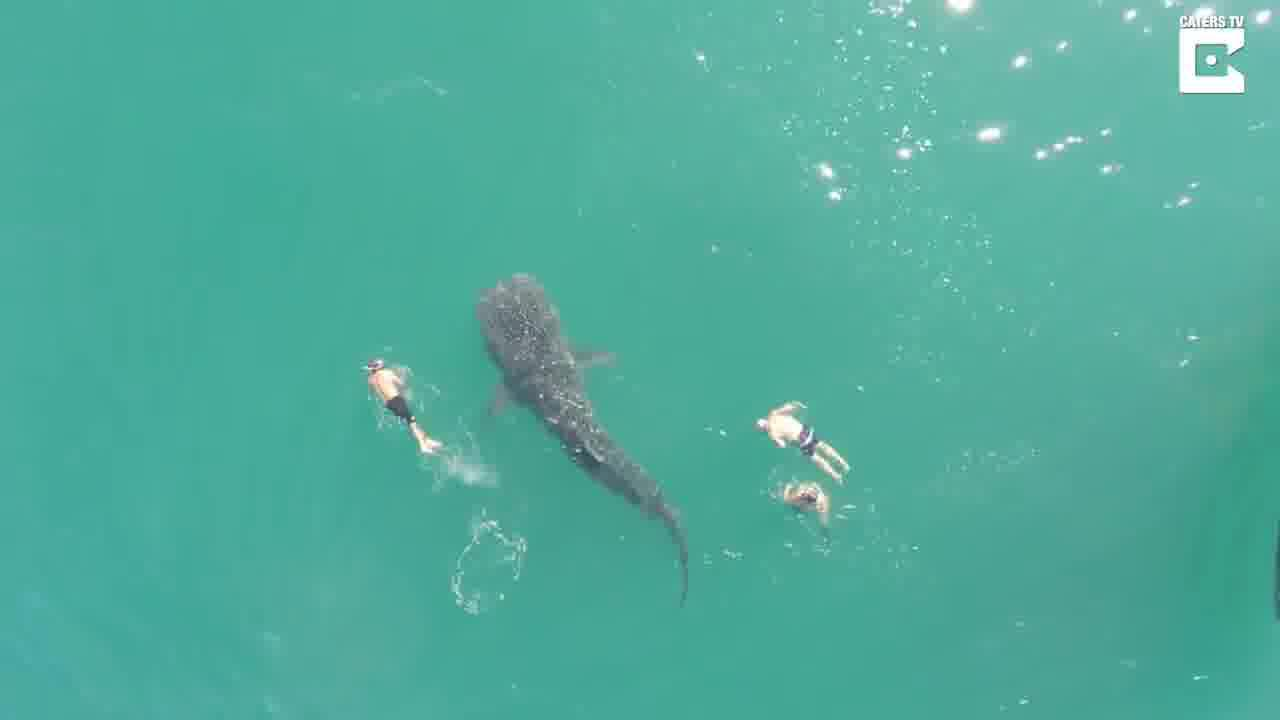swimmer: (354, 351, 449, 459), (747, 396, 848, 483), (785, 482, 830, 527)
